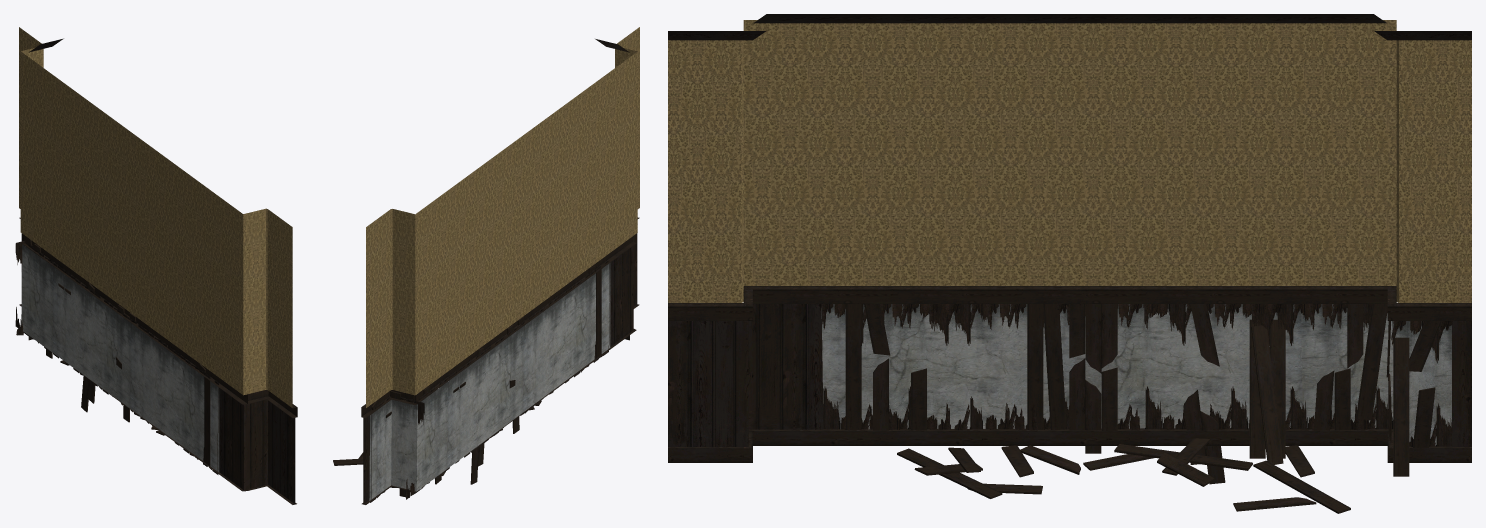
Rendered from #LVL_Wall_CleanB03.fbx.
3 renders of one model, left to right at view 1: azimuth 30°, elevation 25°; view 2: azimuth 150°, elevation 25°; view 3: azimuth 270°, elevation 25°, orthographic. The views are drawn at different scales.
Parts seen in each view (by area): view 1: Cube; view 2: Cube; view 3: Cube.
Boxes of the visible parts, x1,y1,x2,y2 form: Cube: (15,27,297,504); Cube: (333,27,639,504); Cube: (668,14,1471,513).
Size of the model in its own units: 4.7 by 13.08 by 20.
